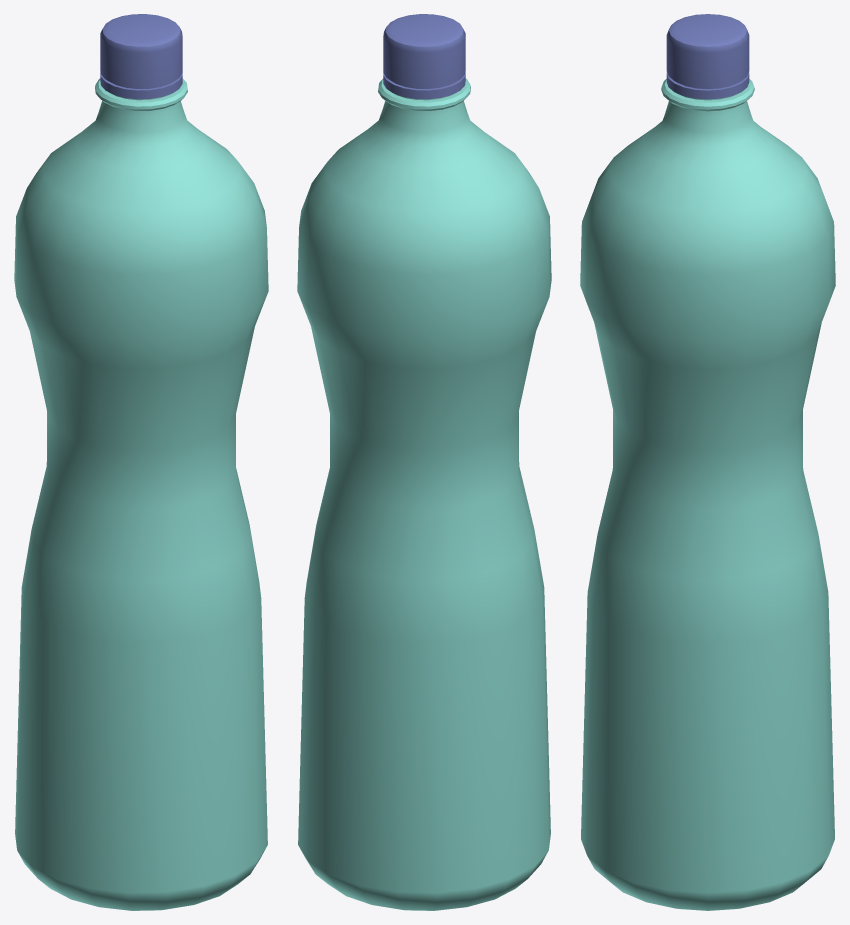
The model's file is botella_de_agua.glb.
The picture shows the model from 3 angles, left to right: view 1: azimuth 30°, elevation 25°; view 2: azimuth 150°, elevation 25°; view 3: azimuth 270°, elevation 25°; orthographic projection.
Parts seen in each view (by area): view 1: pCylinder2; view 2: pCylinder2; view 3: pCylinder2.
Part boxes in pixels (bbox=[...]): pCylinder2: bbox=[14, 14, 268, 910]; pCylinder2: bbox=[297, 14, 551, 910]; pCylinder2: bbox=[580, 14, 835, 910].
Bounding box in the file's own units: 0.0493 × 0.1799 × 0.0493.
